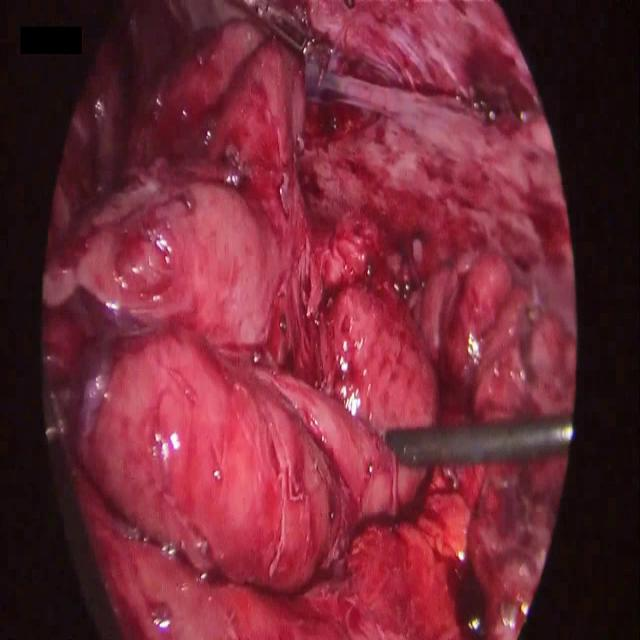surgical-area: (38, 0, 578, 639)
surgical-tool: (388, 414, 572, 470)
